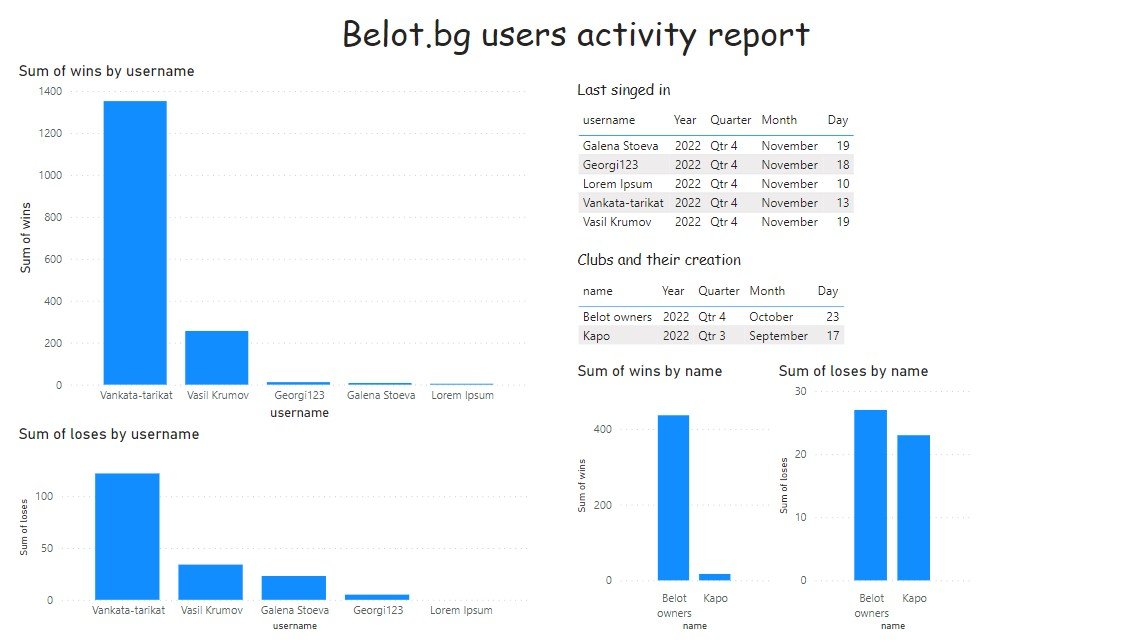

Layout of this report page (visuals, bound fields, positions):
{"tool":"powerbi","page":{"name":"Page 1","canvas":[1280,720],"ordinal":0},"visuals":[{"type":"lineStackedColumnComboChart","fields":{"Y":["Users.wins"],"Category":["Users.username"]},"box":[16.5,76.9,570,399.7],"z":0},{"type":"tableEx","fields":{"Values":["Users.username","Users.last_sign_in.Variation.Date Hierarchy.Year","Users.last_sign_in.Variation.Date Hierarchy.Quarter","Users.last_sign_in.Variation.Date Hierarchy.Month","Users.last_sign_in.Variation.Date Hierarchy.Day"]},"box":[630.4,125,318.6,152.4],"z":1},{"type":"textbox","box":[370.8,15.1,538.4,61.8],"z":2},{"type":"textbox","box":[630.4,92,145.6,33],"z":3},{"type":"lineStackedColumnComboChart","fields":{"Y":["Users.loses"],"Category":["Users.username"]},"box":[16.5,476.6,570,232.1],"z":4},{"type":"tableEx","fields":{"Values":["Clubs.name","Clubs.created_on.Variation.Date Hierarchy.Year","Clubs.created_on.Variation.Date Hierarchy.Quarter","Clubs.created_on.Variation.Date Hierarchy.Month","Clubs.created_on.Variation.Date Hierarchy.Day"]},"box":[630.4,313.1,318.6,93.4],"z":5},{"type":"textbox","box":[630.4,278.8,211.5,34.3],"z":6},{"type":"lineStackedColumnComboChart","fields":{"Y":["Clubs.wins"],"Category":["Clubs.name"]},"box":[630.4,406.5,221.1,302.1],"z":7},{"type":"lineStackedColumnComboChart","fields":{"Y":["Clubs.loses"],"Category":["Clubs.name"]},"box":[851.5,406.5,221.1,302.1],"z":8}]}

Visuals, with their boxes in screenshot pixels (x1, y1, x2, y2), scaled from the page's 1280x720 canvas onto the 1131x642 screenshot:
lineStackedColumnComboChart - Users.wins x Users.username: 15 69 518 425
tableEx - Users.username x Users.last_sign_in.Variation.Date Hierarchy.Year: 557 111 839 247
textbox: 328 13 803 69
textbox: 557 82 686 111
lineStackedColumnComboChart - Users.loses x Users.username: 15 425 518 632
tableEx - Clubs.name x Clubs.created_on.Variation.Date Hierarchy.Year: 557 279 839 362
textbox: 557 249 744 279
lineStackedColumnComboChart - Clubs.wins x Clubs.name: 557 362 752 632
lineStackedColumnComboChart - Clubs.loses x Clubs.name: 752 362 948 632
